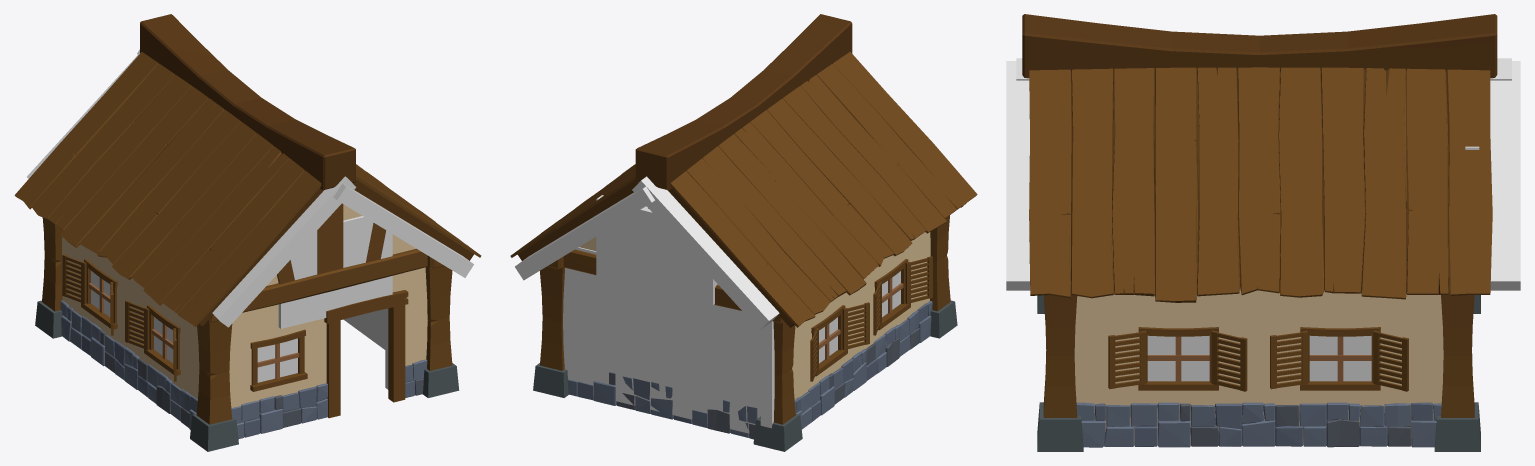
Rendered from house_2.glb.
3 renders of one model, left to right at view 1: azimuth 30°, elevation 25°; view 2: azimuth 150°, elevation 25°; view 3: azimuth 270°, elevation 25°, orthographic. The views are drawn at different scales.
Parts seen in each view (by area): view 1: House_02, Cube.002, Cube.006, Cube.005, Cube.003, Cube.001, Cube; view 2: House_02, Cube.004, Cube.008, Cube.006, Cube.005, Cube; view 3: House_02, Cube.005, Cube.001, Cube.006.
Part boxes in pixels (box(x1,y1,x2,y2)): House_02: box(14, 14, 481, 451); Cube.002: box(278, 216, 392, 328); Cube.006: box(27, 53, 356, 327); Cube.005: box(137, 49, 473, 277); Cube.003: box(257, 338, 297, 382); Cube.001: box(343, 309, 385, 349); Cube: box(91, 271, 173, 363); House_02: box(510, 14, 977, 451); Cube.004: box(563, 247, 760, 433); Cube.008: box(596, 195, 717, 305); Cube.006: box(632, 176, 779, 329); Cube.005: box(515, 186, 654, 280); Cube: box(760, 271, 900, 428); House_02: box(1022, 14, 1497, 451); Cube.005: box(1006, 61, 1520, 290); Cube.001: box(1147, 335, 1371, 381); Cube.006: box(1016, 58, 1511, 80).
Bounding box in the file's own units: 7.96 × 7.02 × 9.33.
1 material, 1 textured.
